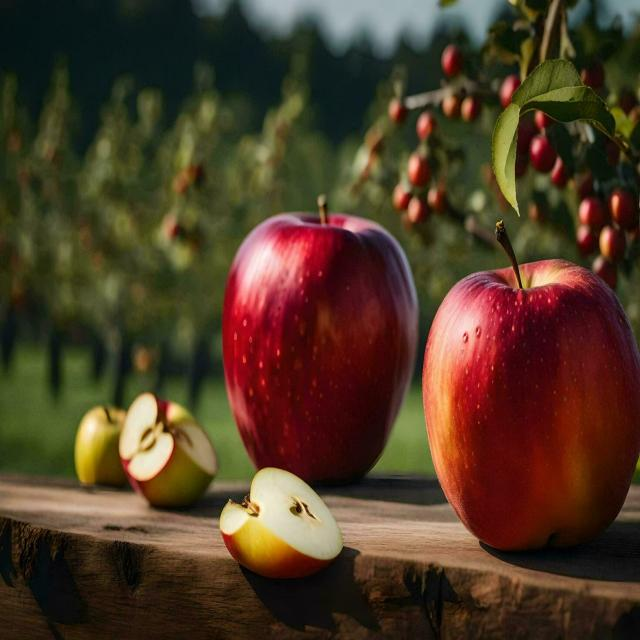apple_fruit: (228, 183, 406, 498)
